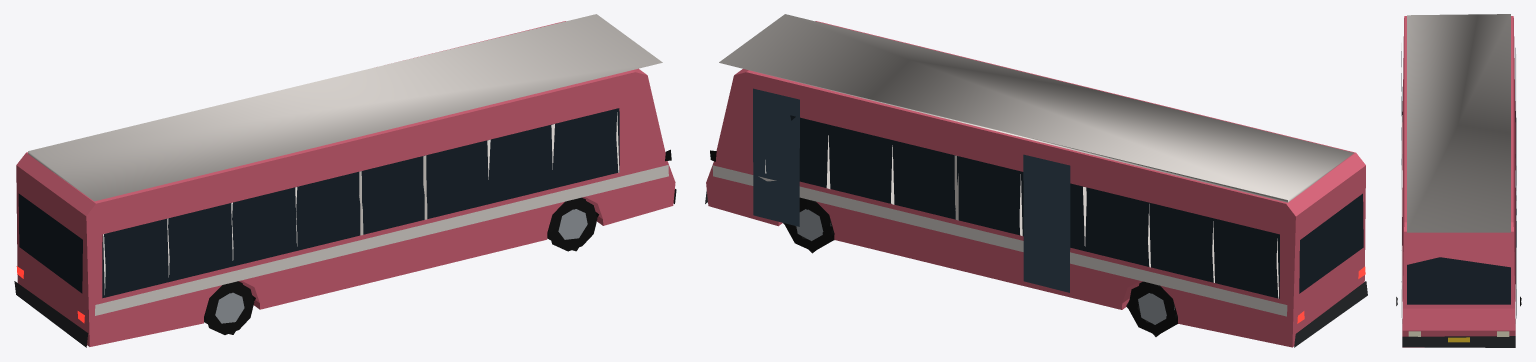
File: city_bus_lod1.glb
3 views of the same model, side by side, from view 1: azimuth 30°, elevation 25°; view 2: azimuth 150°, elevation 25°; view 3: azimuth 270°, elevation 25° (orthographic). The views are drawn at different scales.
Visible parts, largest first — view 1: city_bus_body, wheel_0r, wheel_1r; view 2: city_bus_body, wheel_1l, wheel_0l; view 3: city_bus_body.
Part boxes in pixels (left/top/right/bottom): city_bus_body: left=14, top=14, right=676, bottom=347; wheel_0r: left=547, top=197, right=598, bottom=251; wheel_1r: left=204, top=281, right=255, bottom=334; city_bus_body: left=705, top=14, right=1367, bottom=347; wheel_1l: left=1126, top=281, right=1177, bottom=336; wheel_0l: left=783, top=197, right=834, bottom=253; city_bus_body: left=1396, top=14, right=1521, bottom=347.
Size of the model in its own units: 12.08 by 3.29 by 2.82.
2 materials, 1 textured.
